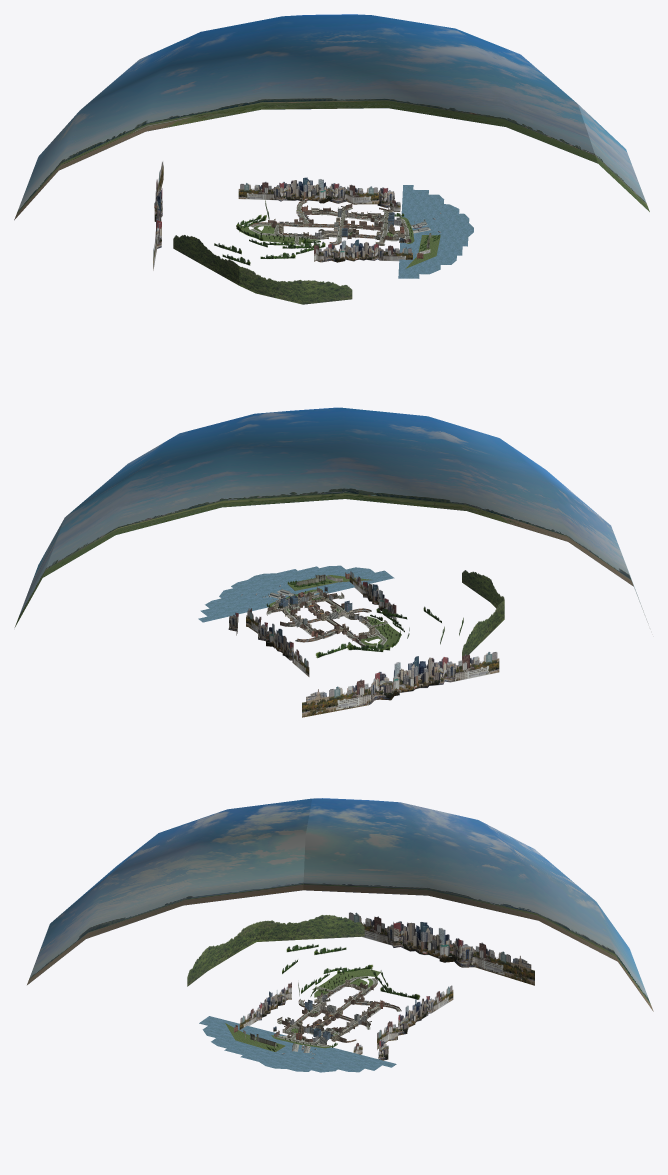
The model's file is gt_racing_2_-_montreal.glb.
3 renders of one model, top to bottom at view 1: azimuth 30°, elevation 25°; view 2: azimuth 150°, elevation 25°; view 3: azimuth 270°, elevation 25°, orthographic.
Visible parts, largest first — view 1: sky_skybox_PIVOT, montreal_mesh_PIVOT, Plane135_PIVOT, Plane128_PIVOT, BUILDINGS_PART1, Alphas_PIVOT, Plane101_billboard002_PIVOT, BUILDINGS_PART2, road_mesh_PIVOT, Plane134_PIVOT, road_road_PIVOT; view 2: sky_skybox_PIVOT, montreal_mesh_PIVOT, Plane134_PIVOT, BUILDINGS_PART1, Plane135_PIVOT, Alphas_PIVOT, Plane128_PIVOT, BUILDINGS_PART2, Plane101_billboard002_PIVOT, road_mesh_PIVOT; view 3: sky_skybox_PIVOT, montreal_mesh_PIVOT, Plane134_PIVOT, Plane135_PIVOT, BUILDINGS_PART1, Plane128_PIVOT, Alphas_PIVOT, BUILDINGS_PART2, road_mesh_PIVOT, Plane101_billboard002_PIVOT, road_road_PIVOT.
Part boxes in pixels (x1=…): sky_skybox_PIVOT: x1=14, y1=14, x2=649, y2=220; montreal_mesh_PIVOT: x1=238, y1=185, x2=473, y2=278; Plane135_PIVOT: x1=173, y1=235, x2=352, y2=304; Plane128_PIVOT: x1=238, y1=177, x2=379, y2=204; BUILDINGS_PART1: x1=250, y1=199, x2=431, y2=259; Alphas_PIVOT: x1=214, y1=200, x2=440, y2=265; Plane101_billboard002_PIVOT: x1=314, y1=239, x2=412, y2=262; BUILDINGS_PART2: x1=268, y1=204, x2=411, y2=242; road_mesh_PIVOT: x1=250, y1=201, x2=430, y2=245; Plane134_PIVOT: x1=153, y1=161, x2=163, y2=270; road_road_PIVOT: x1=251, y1=201, x2=408, y2=245; sky_skybox_PIVOT: x1=14, y1=407, x2=648, y2=627; montreal_mesh_PIVOT: x1=198, y1=565, x2=401, y2=650; Plane134_PIVOT: x1=302, y1=651, x2=499, y2=717; BUILDINGS_PART1: x1=266, y1=572, x2=374, y2=646; Plane135_PIVOT: x1=462, y1=570, x2=504, y2=660; Alphas_PIVOT: x1=265, y1=580, x2=463, y2=658; Plane128_PIVOT: x1=246, y1=610, x2=309, y2=676; BUILDINGS_PART2: x1=267, y1=587, x2=374, y2=643; Plane101_billboard002_PIVOT: x1=349, y1=571, x2=396, y2=620; road_mesh_PIVOT: x1=263, y1=590, x2=387, y2=645; sky_skybox_PIVOT: x1=27, y1=798, x2=653, y2=1011; montreal_mesh_PIVOT: x1=199, y1=969, x2=396, y2=1072; Plane134_PIVOT: x1=347, y1=912, x2=534, y2=985; Plane135_PIVOT: x1=187, y1=915, x2=364, y2=986; BUILDINGS_PART1: x1=234, y1=977, x2=401, y2=1052; Plane128_PIVOT: x1=377, y1=985, x2=453, y2=1049; Alphas_PIVOT: x1=266, y1=944, x2=420, y2=1057; BUILDINGS_PART2: x1=274, y1=982, x2=389, y2=1042; road_mesh_PIVOT: x1=277, y1=976, x2=401, y2=1053; Plane101_billboard002_PIVOT: x1=239, y1=982, x2=291, y2=1029; road_road_PIVOT: x1=277, y1=976, x2=399, y2=1046.
Bounding box in the file's own units: 5176 × 1704 × 5176.
Materials: 26 (25 with a texture image).
